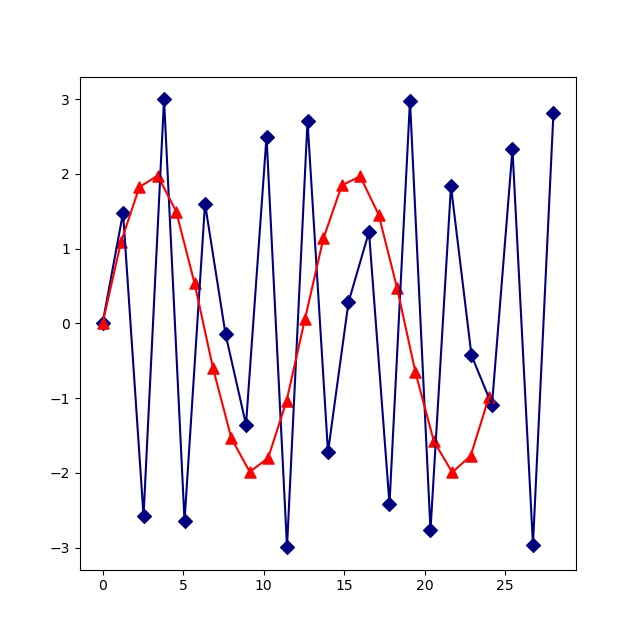diamond: (97, 318, 109, 330), (118, 207, 130, 219), (138, 510, 150, 522), (159, 94, 171, 106), (179, 516, 191, 528), (200, 198, 212, 210), (220, 329, 232, 341), (241, 419, 253, 431), (261, 131, 273, 143), (282, 542, 294, 554), (302, 115, 314, 127), (323, 447, 335, 459), (343, 297, 355, 309), (363, 226, 375, 238), (384, 499, 396, 511), (404, 95, 416, 107), (425, 525, 437, 537), (445, 181, 457, 193), (466, 350, 478, 362), (486, 400, 498, 412), (507, 144, 519, 156), (527, 539, 539, 551), (548, 107, 560, 119)
triangle_up: (97, 317, 110, 330), (115, 236, 128, 249), (133, 181, 146, 194), (152, 170, 165, 183), (170, 206, 183, 219), (189, 277, 202, 290), (207, 362, 220, 375), (225, 432, 238, 445), (244, 466, 257, 479), (262, 452, 275, 465), (281, 395, 294, 408), (299, 313, 312, 326), (317, 232, 330, 245), (336, 179, 349, 192), (354, 170, 367, 183), (373, 209, 386, 222), (391, 282, 404, 295), (409, 366, 422, 379), (428, 435, 441, 448), (446, 466, 459, 479), (465, 450, 478, 463), (483, 391, 496, 404)
